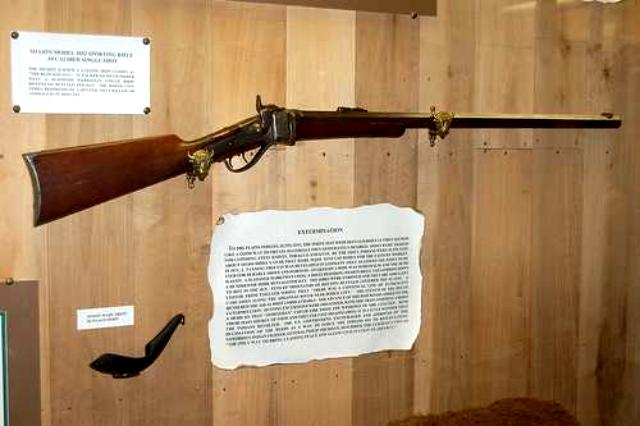rifle: (16, 86, 628, 224)
